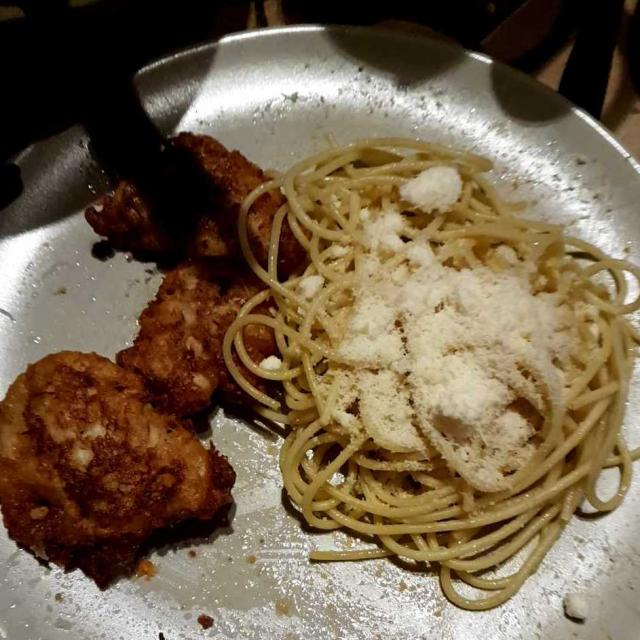breadcrumbs-unspiced: (26, 152, 270, 578)
chicken: (6, 128, 322, 586)
parmesan: (304, 162, 590, 474)
pasta-spaghetti: (251, 149, 626, 622)
